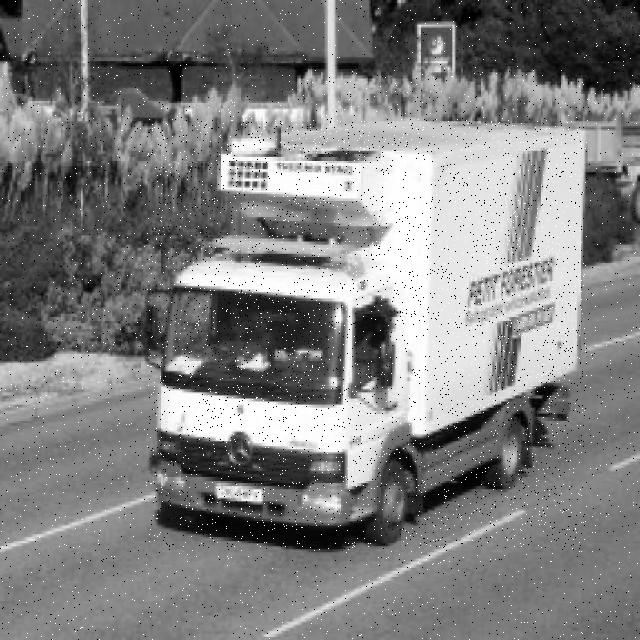Box Truck: (147, 119, 587, 549)
